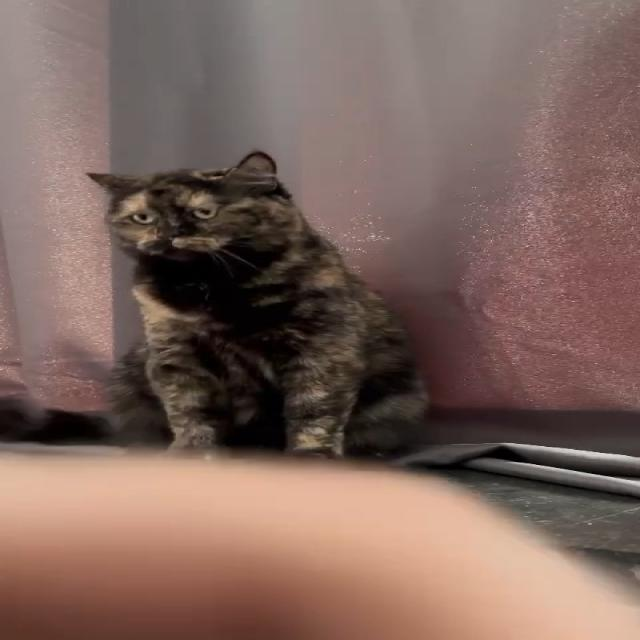authorized: (82, 150, 430, 460)
